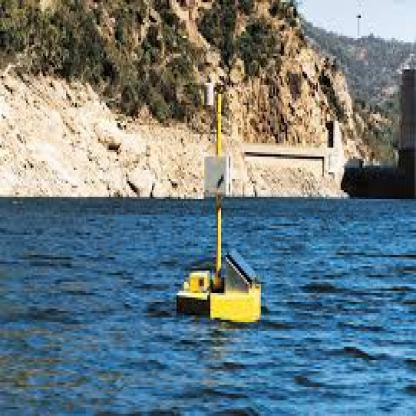buoy: (167, 244, 270, 335)
